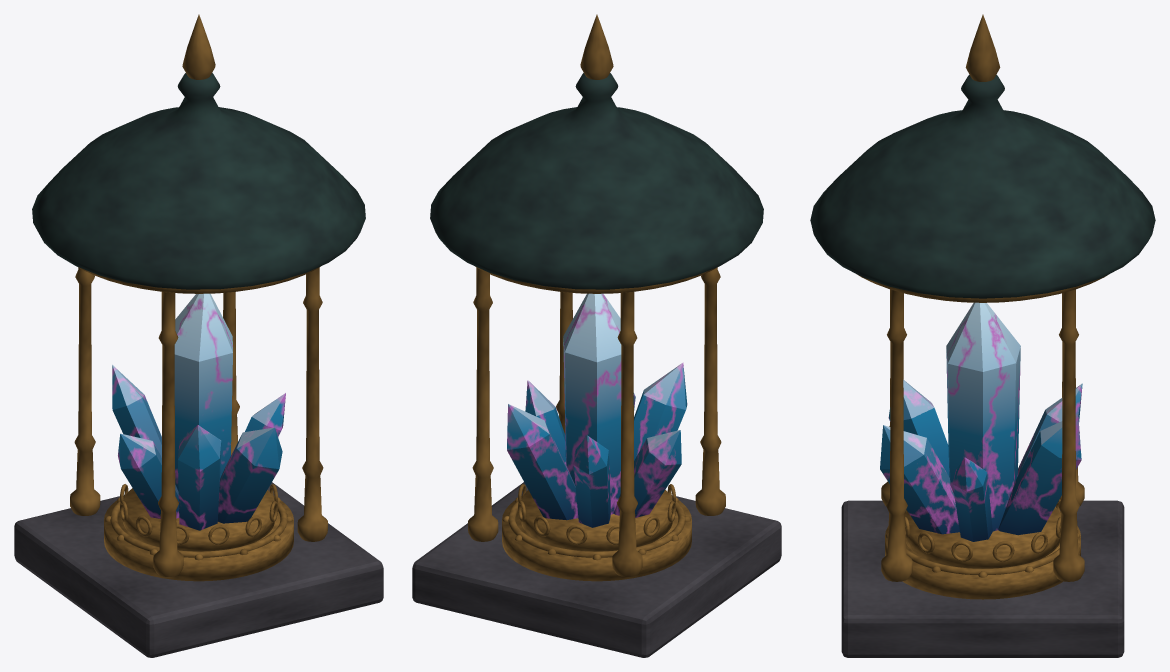
The model's file is ward.glb.
The picture shows the model from 3 angles, left to right: view 1: azimuth 30°, elevation 25°; view 2: azimuth 150°, elevation 25°; view 3: azimuth 270°, elevation 25°; orthographic projection. The views are drawn at different scales.
Visible parts, largest first — view 1: Roof, Plinth, Crystal, Frame, Base; view 2: Roof, Plinth, Crystal, Frame, Base; view 3: Roof, Plinth, Crystal, Frame, Base.
Boxes of the visible parts, left/top/right/bottom form: Roof: left=32, top=73, right=365, bottom=289; Plinth: left=14, top=482, right=383, bottom=657; Crystal: left=112, top=293, right=285, bottom=530; Frame: left=70, top=14, right=327, bottom=576; Base: left=104, top=484, right=293, bottom=581; Roof: left=430, top=73, right=763, bottom=289; Plinth: left=412, top=482, right=781, bottom=657; Crystal: left=507, top=293, right=687, bottom=527; Frame: left=468, top=14, right=725, bottom=576; Base: left=502, top=484, right=691, bottom=581; Roof: left=810, top=75, right=1155, bottom=298; Plinth: left=841, top=500, right=1124, bottom=657; Crystal: left=880, top=302, right=1082, bottom=541; Frame: left=857, top=14, right=1108, bottom=581; Base: left=885, top=499, right=1080, bottom=599.
Size of the model in its own units: 4.4 by 8.25 by 4.4.
Materials: 5 (5 with a texture image).
